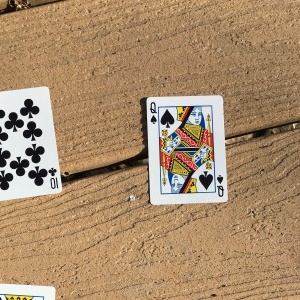card: (143, 94, 230, 206)
